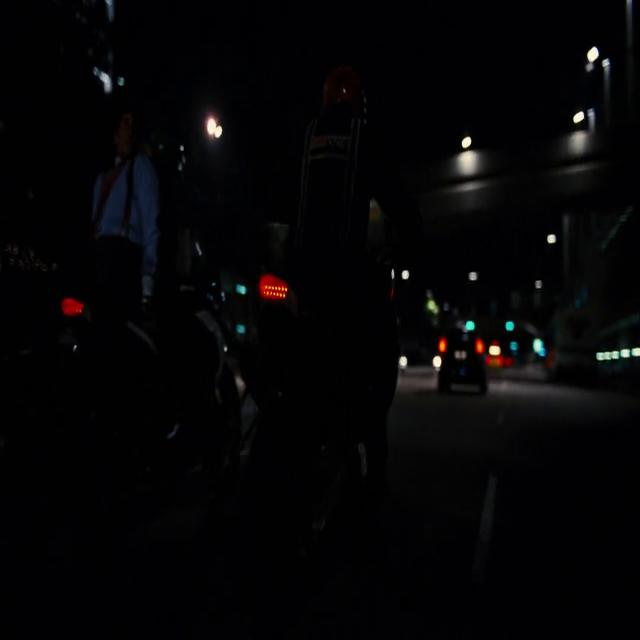Motorbike: (0, 281, 230, 535), (233, 295, 421, 529)
People: (78, 76, 153, 402), (307, 37, 387, 279)
car: (430, 329, 494, 408)
